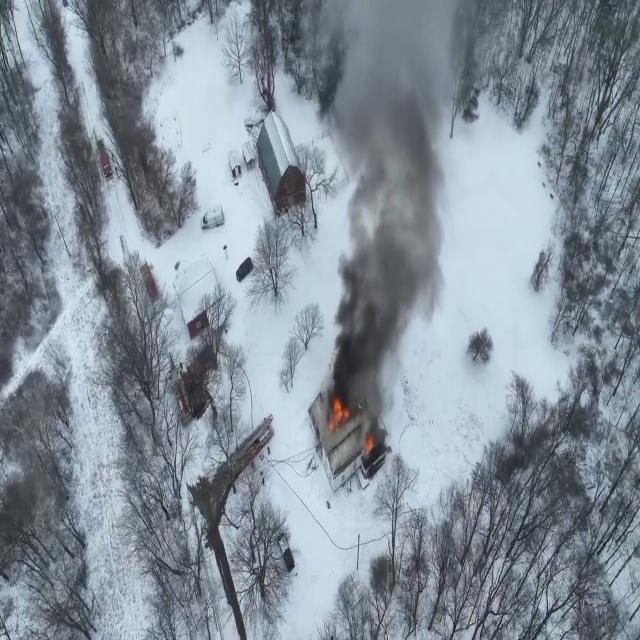Fire: (327, 388, 349, 434)
Smoke: (318, 1, 468, 390)
